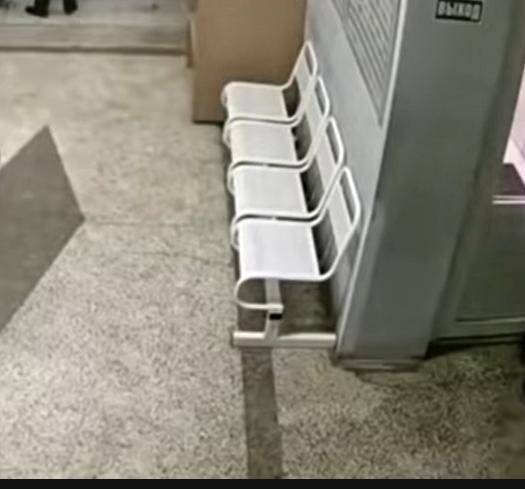NoHuman: (0, 0, 525, 479)
